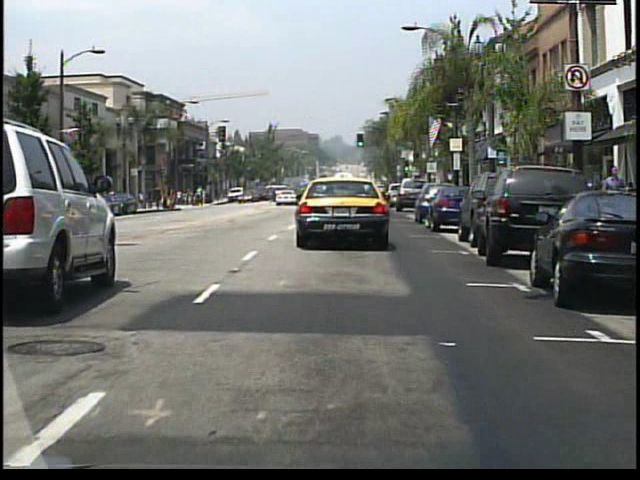person: (600, 163, 626, 235), (203, 190, 211, 207)
